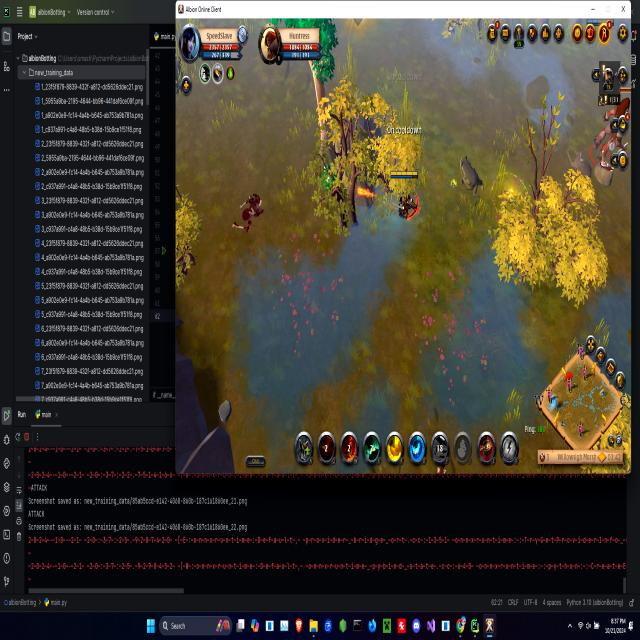hide: (317, 157, 340, 195)
ore: (591, 85, 632, 175), (457, 152, 489, 204)
red: (388, 158, 423, 227), (586, 19, 617, 28)
wisp caged: (270, 18, 340, 154)
